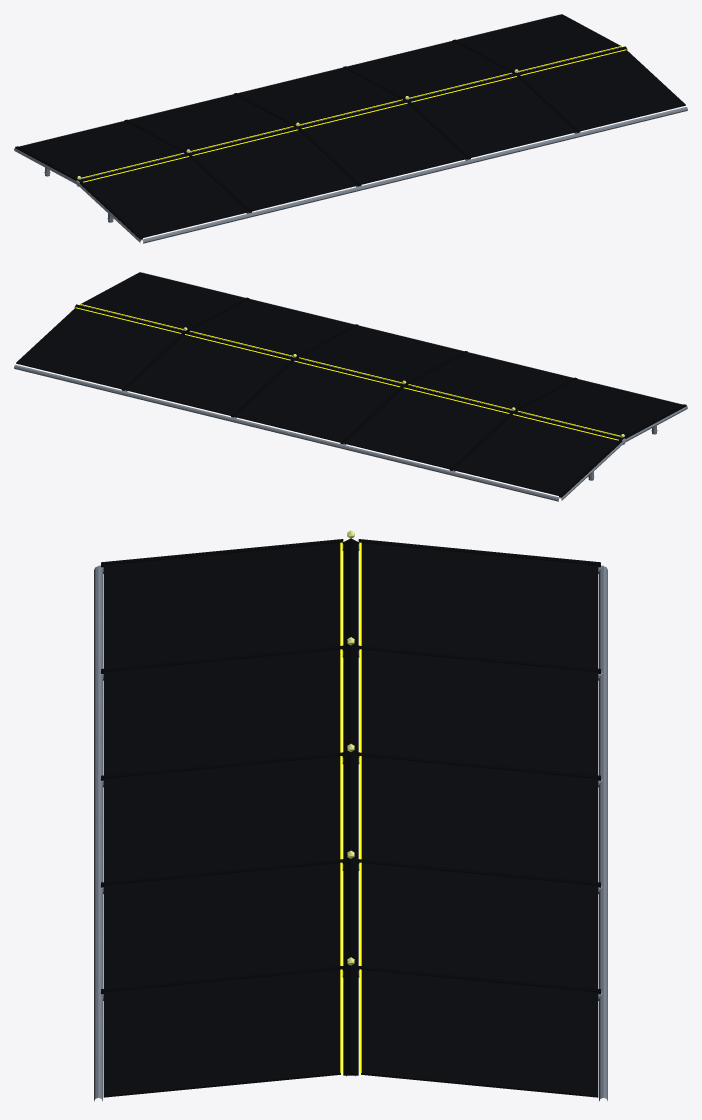
3 renders of one model, top to bottom at view 1: azimuth 30°, elevation 25°; view 2: azimuth 150°, elevation 25°; view 3: azimuth 270°, elevation 25°, orthographic. The views are drawn at different scales.
Parts seen in each view (by area): view 1: Crown_Slate_Panels, Crown_Frame, Crown_Glazing_Caps, Ridge_Cap, Ridge_LED_Line; view 2: Crown_Slate_Panels, Crown_Frame, Crown_Glazing_Caps, Ridge_Cap, Ridge_LED_Line; view 3: Crown_Slate_Panels, Crown_Glazing_Caps, Crown_Frame, Ridge_Cap, Ridge_LED_Line.
Part boxes in pixels (bbox=[...]): Crown_Slate_Panels: bbox=[19, 14, 685, 237]; Crown_Frame: bbox=[14, 14, 687, 243]; Crown_Glazing_Caps: bbox=[15, 39, 580, 239]; Ridge_Cap: bbox=[77, 46, 627, 181]; Ridge_LED_Line: bbox=[81, 46, 625, 182]; Crown_Slate_Panels: bbox=[16, 272, 682, 495]; Crown_Frame: bbox=[14, 272, 687, 501]; Crown_Glazing_Caps: bbox=[121, 297, 686, 497]; Ridge_Cap: bbox=[74, 304, 624, 439]; Ridge_LED_Line: bbox=[76, 304, 620, 440]; Crown_Slate_Panels: bbox=[103, 542, 598, 1097]; Crown_Glazing_Caps: bbox=[101, 539, 600, 994]; Crown_Frame: bbox=[94, 544, 607, 1101]; Ridge_Cap: bbox=[343, 538, 358, 1075]; Ridge_LED_Line: bbox=[340, 542, 361, 1072].
Bounding box in the file's own units: 20.08 × 0.7845 × 8.14.
5 materials, 3 textured.
